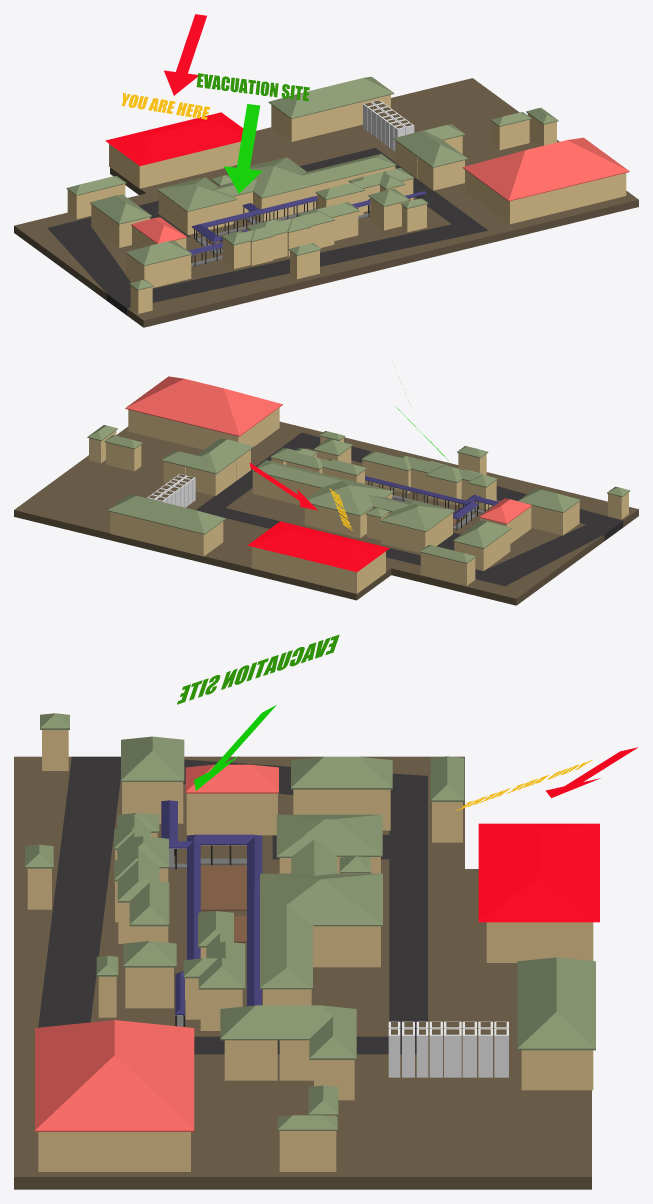
Rendered from ITALIANBUILDING.glb.
3 renders of one model, top to bottom at view 1: azimuth 30°, elevation 25°; view 2: azimuth 150°, elevation 25°; view 3: azimuth 270°, elevation 25°, orthographic. The views are drawn at different scales.
Parts seen in each view (by area): view 1: Toposolid Grassland - 1200mm [352516], Toposolid Grassland - 1200mm [354195], Basic Roof Generic - 125mm [387914], Basic Roof Generic - 125mm [384035], Basic Roof Generic - 125mm [378573], Basic Wall Generic - 200mm [355787], Basic Roof Generic - 125mm [385592], Basic Wall Generic - 200mm [355672], Basic Roof Generic - 125mm [385698], Basic Roof Generic - 125mm [387351], Basic Wall Generic - 200mm [355773], Plane.001 (+28 smaller); view 2: Toposolid Grassland - 1200mm [352516], Toposolid Grassland - 1200mm [354195], Basic Roof Generic - 125mm [387914], Basic Roof Generic - 125mm [384035], Basic Roof Generic - 125mm [378573], Basic Wall Generic - 200mm [355757], Basic Roof Generic - 125mm [385592], Basic Wall Generic - 200mm [355771], Basic Wall Generic - 200mm [355789], Basic Roof Generic - 125mm [385698], Basic Roof Generic - 125mm [387351], Basic Wall Generic - 200mm [357016] (+25 smaller); view 3: Toposolid Grassland - 1200mm [352516], Toposolid Grassland - 1200mm [354195], Basic Roof Generic - 125mm [387914], Basic Roof Generic - 125mm [384035], Basic Roof Generic - 125mm [378573], Basic Roof Generic - 125mm [385592], Basic Wall Generic - 200mm [355788], Basic Roof Generic - 125mm [389243], Basic Roof Generic - 125mm [387351], Basic Roof Generic - 125mm [385698], Basic Wall Generic - 200mm [355719], Basic Wall Generic - 200mm [356699] (+26 smaller).
Part boxes in pixels (x1,y1,x2,y2): Toposolid Grassland - 1200mm [352516]: (14,78,638,327); Toposolid Grassland - 1200mm [354195]: (47,148,487,315); Basic Roof Generic - 125mm [387914]: (462,137,629,201); Basic Roof Generic - 125mm [384035]: (157,153,396,211); Basic Roof Generic - 125mm [378573]: (105,112,255,165); Basic Wall Generic - 200mm [355787]: (511,173,626,223); Basic Roof Generic - 125mm [385592]: (268,76,394,118); Basic Wall Generic - 200mm [355672]: (140,141,240,188); Basic Roof Generic - 125mm [385698]: (221,202,359,245); Basic Roof Generic - 125mm [387351]: (393,124,467,167); Basic Wall Generic - 200mm [355773]: (293,95,390,141); Plane.001: (224,104,262,193); Toposolid Grassland - 1200mm [352516]: (14,421,638,605); Toposolid Grassland - 1200mm [354195]: (196,432,623,586); Basic Roof Generic - 125mm [387914]: (125,376,282,436); Basic Roof Generic - 125mm [384035]: (252,460,454,531); Basic Roof Generic - 125mm [378573]: (247,521,389,571); Basic Wall Generic - 200mm [355757]: (253,547,355,593); Basic Roof Generic - 125mm [385592]: (107,494,225,534); Basic Wall Generic - 200mm [355771]: (111,512,204,556); Basic Wall Generic - 200mm [355789]: (129,410,238,449); Basic Roof Generic - 125mm [385698]: (361,451,497,487); Basic Roof Generic - 125mm [387351]: (161,438,253,474); Basic Wall Generic - 200mm [357016]: (304,505,358,537); Toposolid Grassland - 1200mm [352516]: (14,756,591,1189); Toposolid Grassland - 1200mm [354195]: (38,756,427,1054); Basic Roof Generic - 125mm [387914]: (35,1020,194,1131); Basic Roof Generic - 125mm [384035]: (260,814,382,989); Basic Roof Generic - 125mm [378573]: (478,823,599,922); Basic Roof Generic - 125mm [385592]: (517,957,595,1050); Basic Wall Generic - 200mm [355788]: (40,1132,190,1171); Basic Roof Generic - 125mm [389243]: (161,800,262,1015); Basic Roof Generic - 125mm [387351]: (220,1005,356,1059); Basic Roof Generic - 125mm [385698]: (114,813,169,926); Basic Wall Generic - 200mm [355719]: (489,922,593,962); Basic Wall Generic - 200mm [356699]: (189,793,277,835).
Bounding box in the file's own units: 86 × 25.27 × 54.06.
